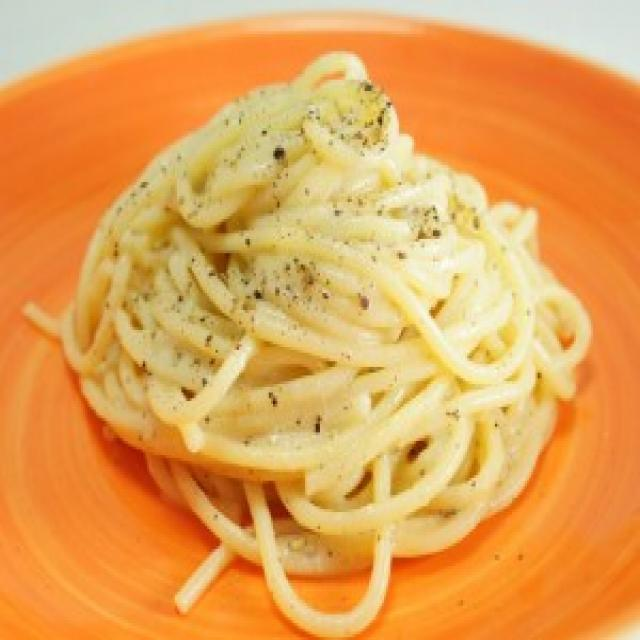Oil pasta: (75, 23, 606, 612)
